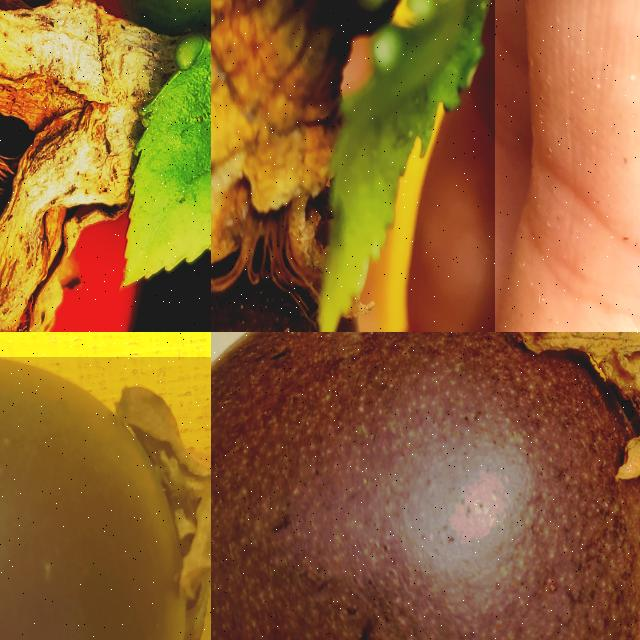Estado-4: (211, 332, 640, 640), (211, 0, 460, 332)
Estado-6: (0, 358, 211, 640)
